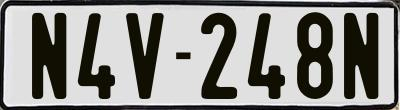2: (201, 11, 242, 100)
4: (77, 11, 118, 100), (246, 11, 285, 103)
8: (297, 12, 336, 100)
N: (343, 13, 380, 102), (30, 11, 64, 97)
V: (124, 12, 165, 101)
